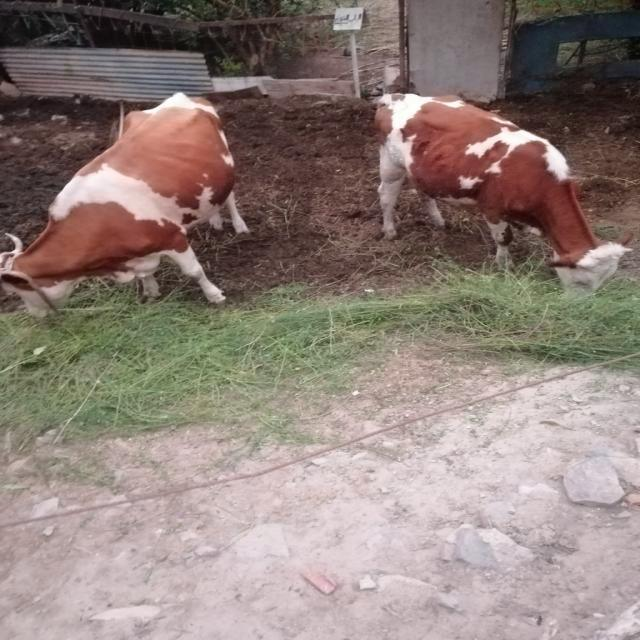cow: (0, 92, 248, 316), (375, 94, 626, 289)
